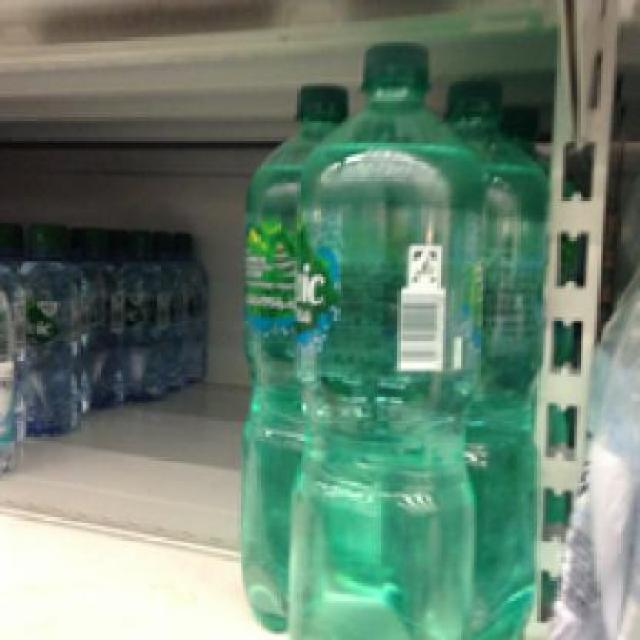Water: (280, 40, 477, 637)
